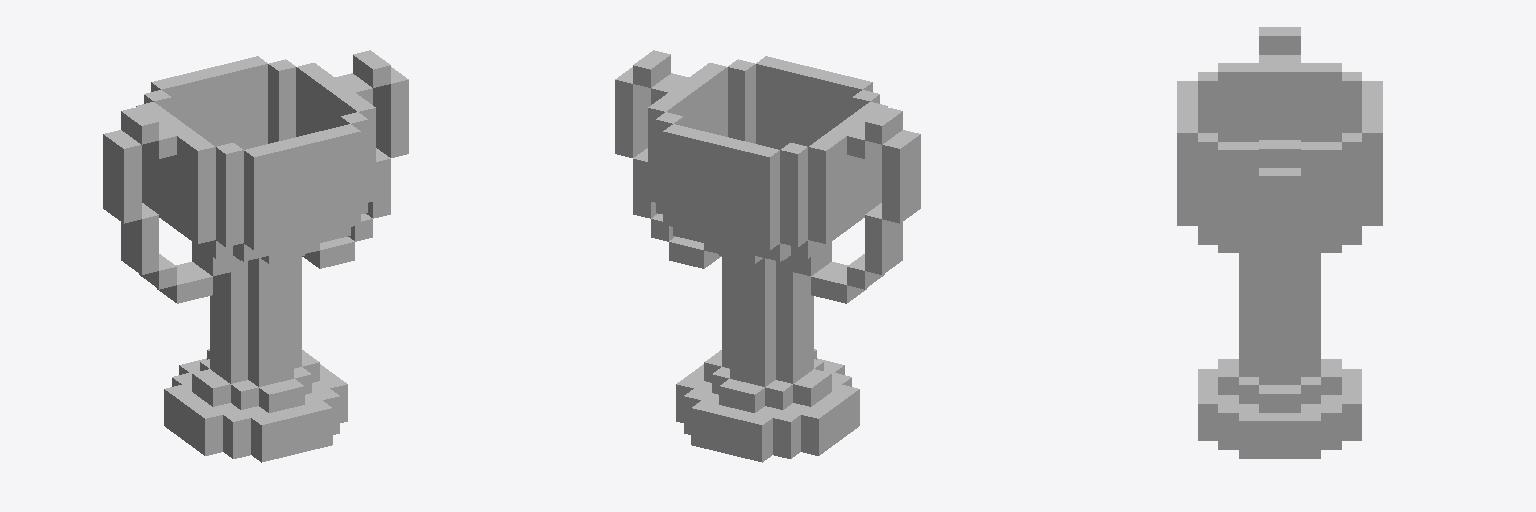
Rendered from Trophy Good-1-T3 blue.obj.
3 views of the same model, side by side, from view 1: azimuth 30°, elevation 25°; view 2: azimuth 150°, elevation 25°; view 3: azimuth 270°, elevation 25° (orthographic).
Visible parts, largest first — view 1: T3 blue; view 2: T3 blue; view 3: T3 blue.
Part boxes in pixels (bbox=[...]): T3 blue: bbox=[103, 50, 408, 462]; T3 blue: bbox=[615, 50, 920, 462]; T3 blue: bbox=[1177, 27, 1382, 458].
Size of the model in its own units: 1.6 by 1.8 by 1.